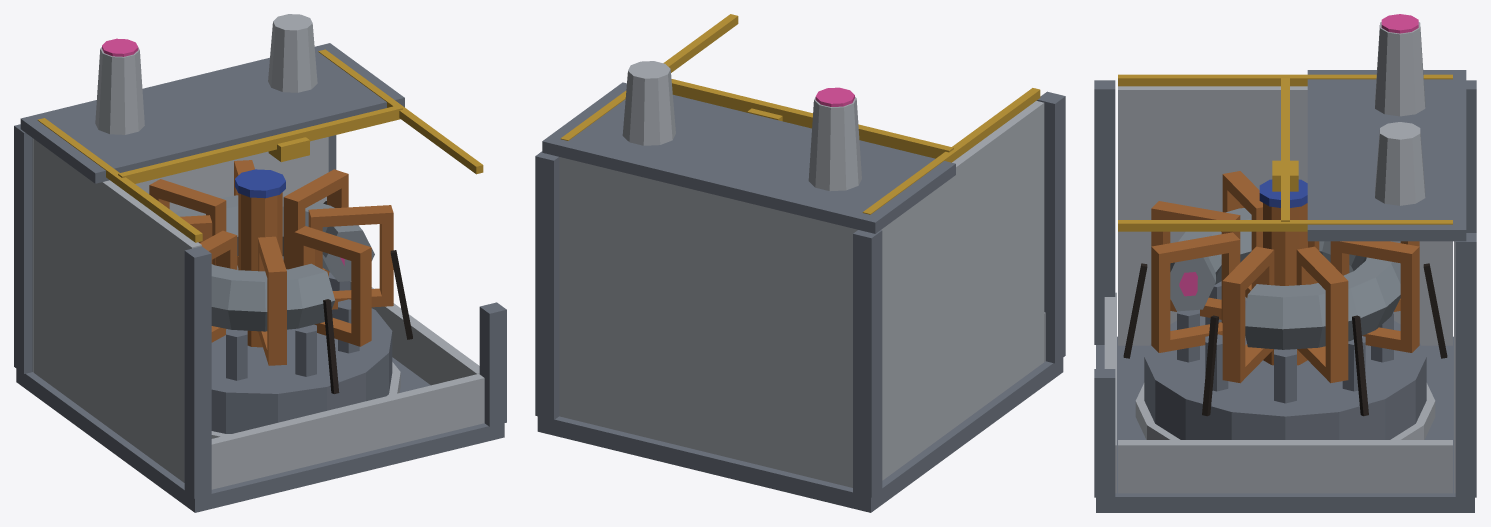
The model's file is fusion.glb.
3 renders of one model, left to right at view 1: azimuth 30°, elevation 25°; view 2: azimuth 150°, elevation 25°; view 3: azimuth 270°, elevation 25°, orthographic. The views are drawn at different scales.
Visible parts, largest first — view 1: fusion; view 2: fusion; view 3: fusion.
Boxes of the visible parts, x1,y1,x2,y2 form: fusion: (14,14,506,512); fusion: (535,14,1065,512); fusion: (1094,14,1476,512).
Size of the model in its own units: 4.34 by 4.58 by 4.34.
